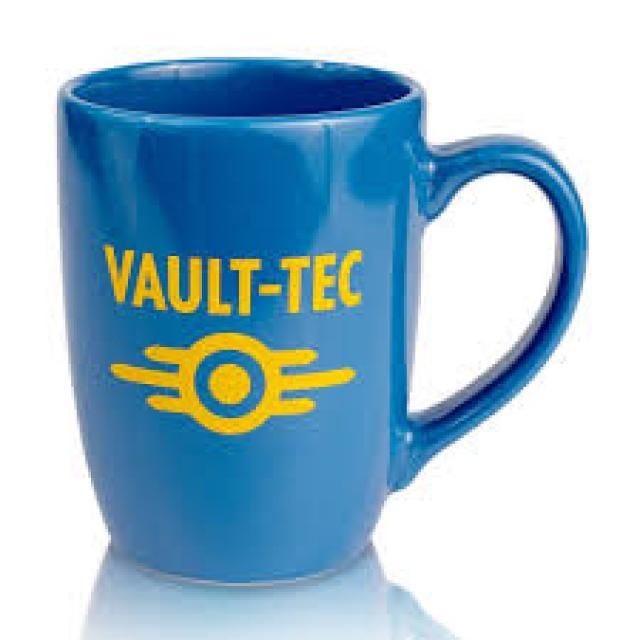taza: (54, 55, 588, 584)
